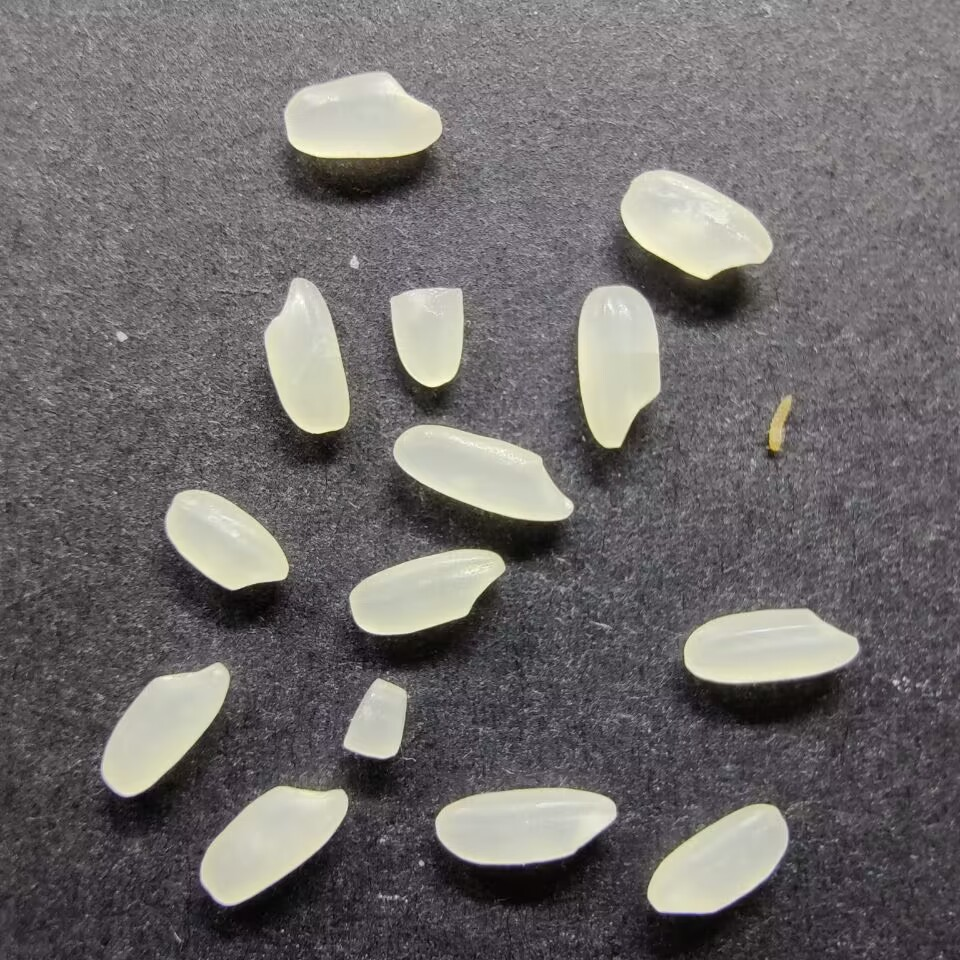broken: (389, 286, 465, 389), (342, 677, 411, 761)
others: (762, 391, 796, 454)
rice: (199, 783, 350, 909), (390, 422, 574, 523), (97, 661, 232, 797), (620, 168, 774, 280), (645, 802, 790, 914), (433, 783, 617, 865), (283, 69, 442, 161), (347, 548, 508, 638), (575, 283, 662, 449), (682, 605, 860, 686), (262, 274, 351, 435), (163, 487, 289, 592)
